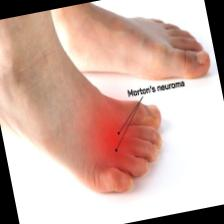stress-fracture: (66, 74, 156, 186)
